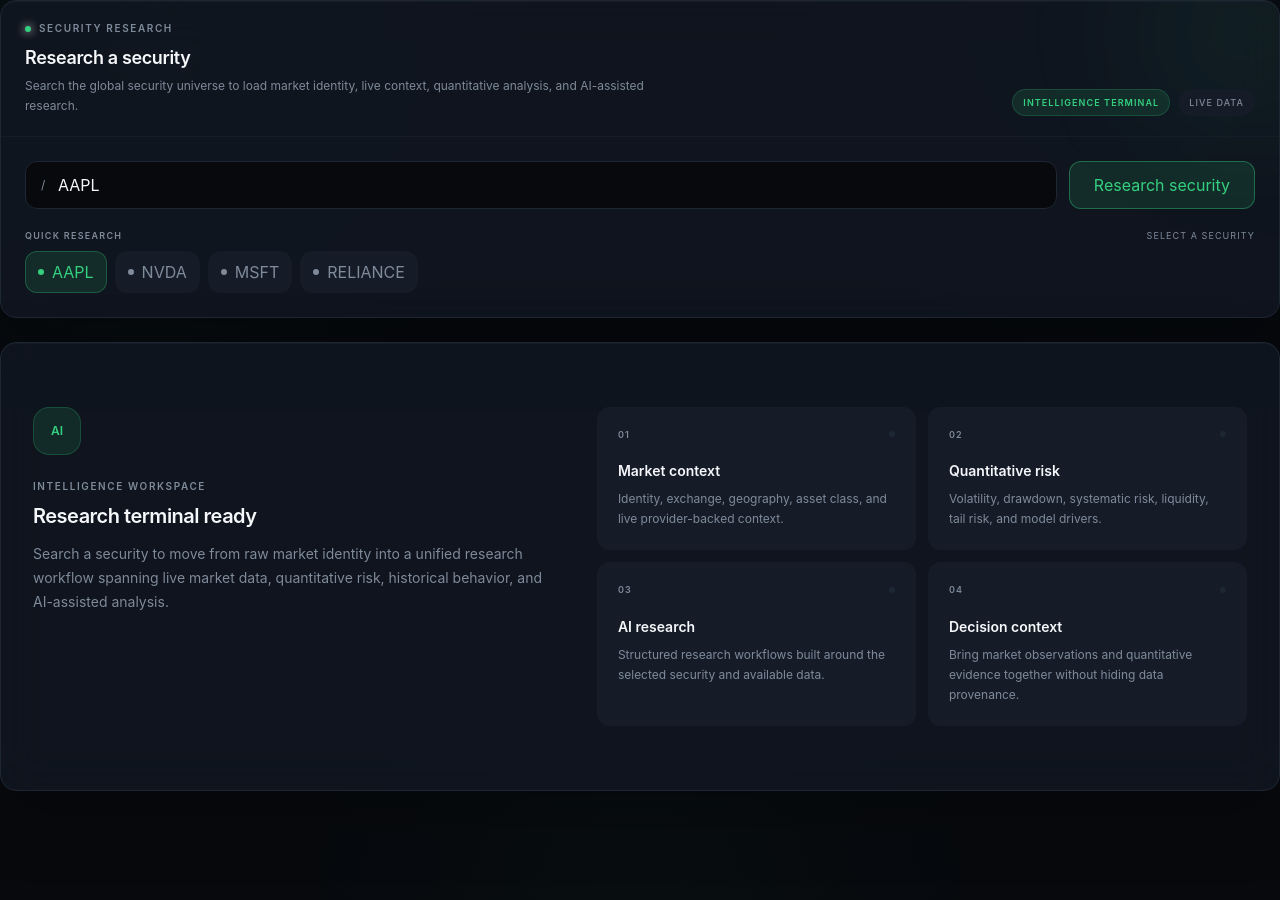
ResearchWorkspace › shows a loading state while the security lookup is running
Click the button "Research security".
click(1162, 185)  # box [1069,161,1255,209]
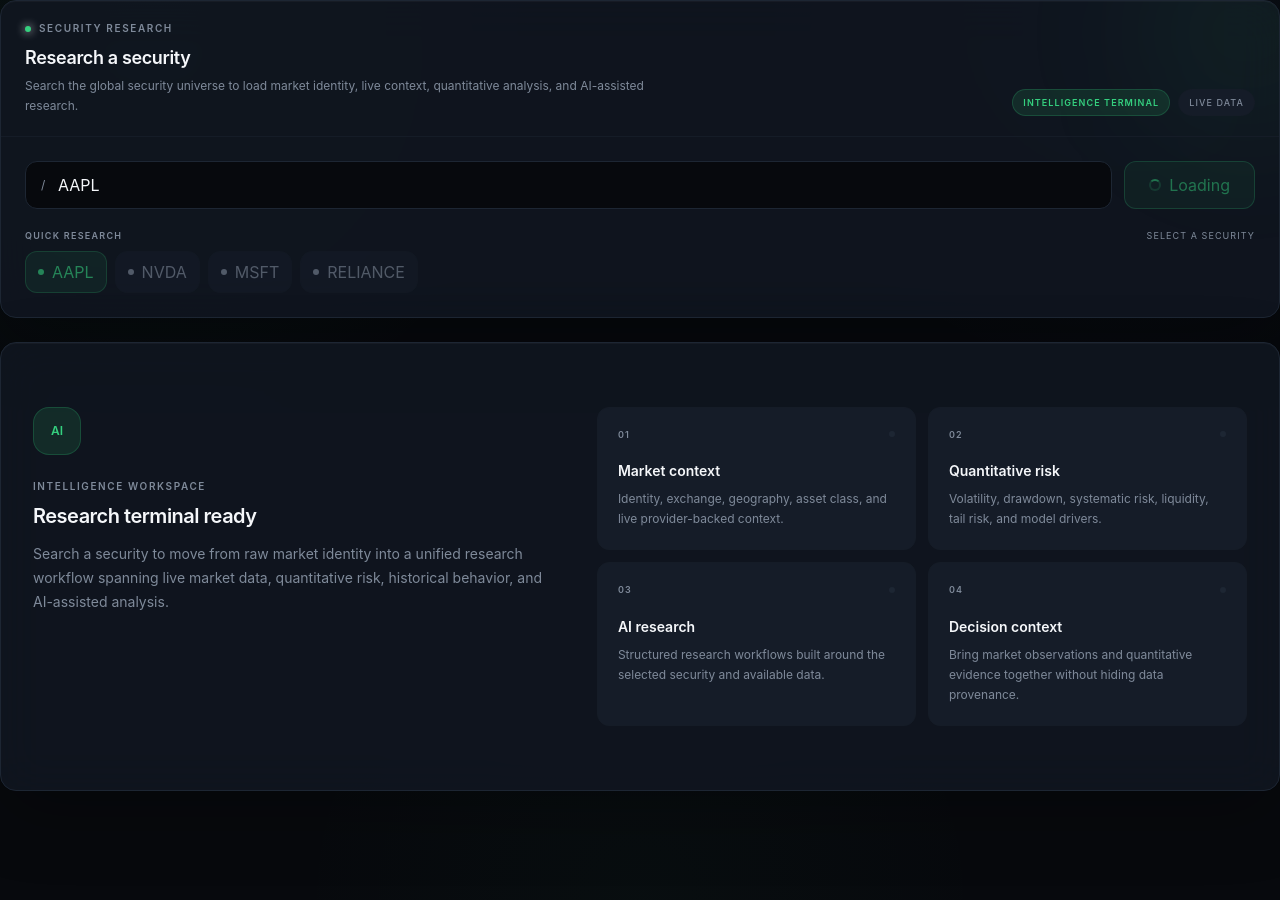
Check: the text "Loading" is shown, box [1149,173,1230,197]
